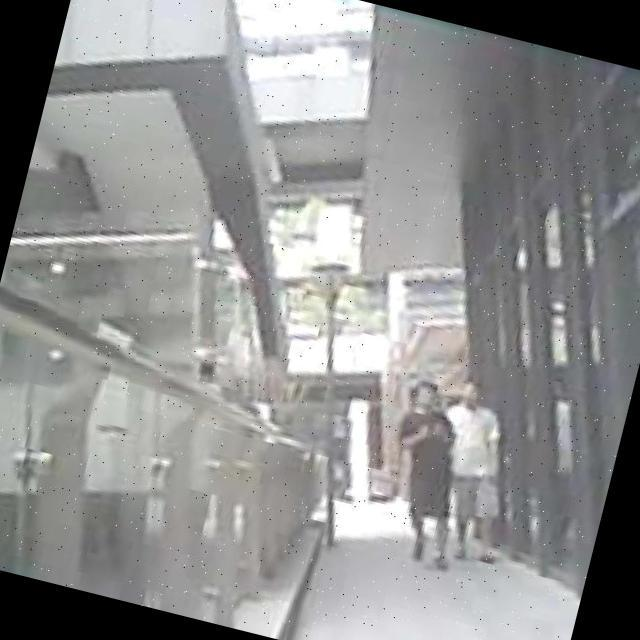person: (408, 378, 534, 571), (368, 381, 487, 572)
